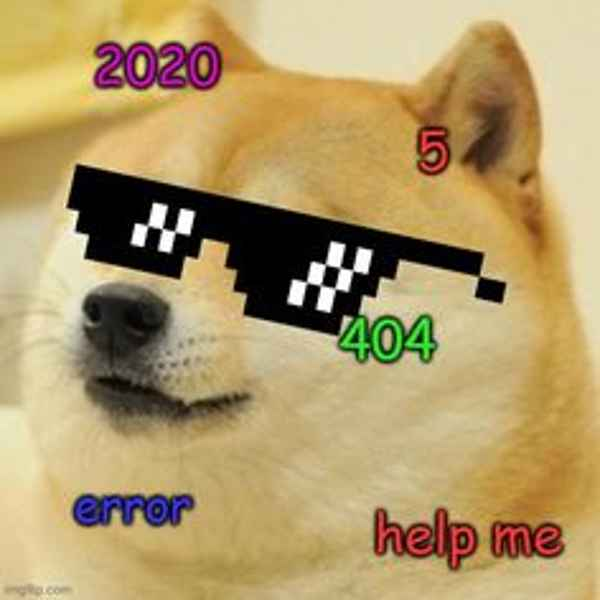doge: (37, 23, 557, 518)
